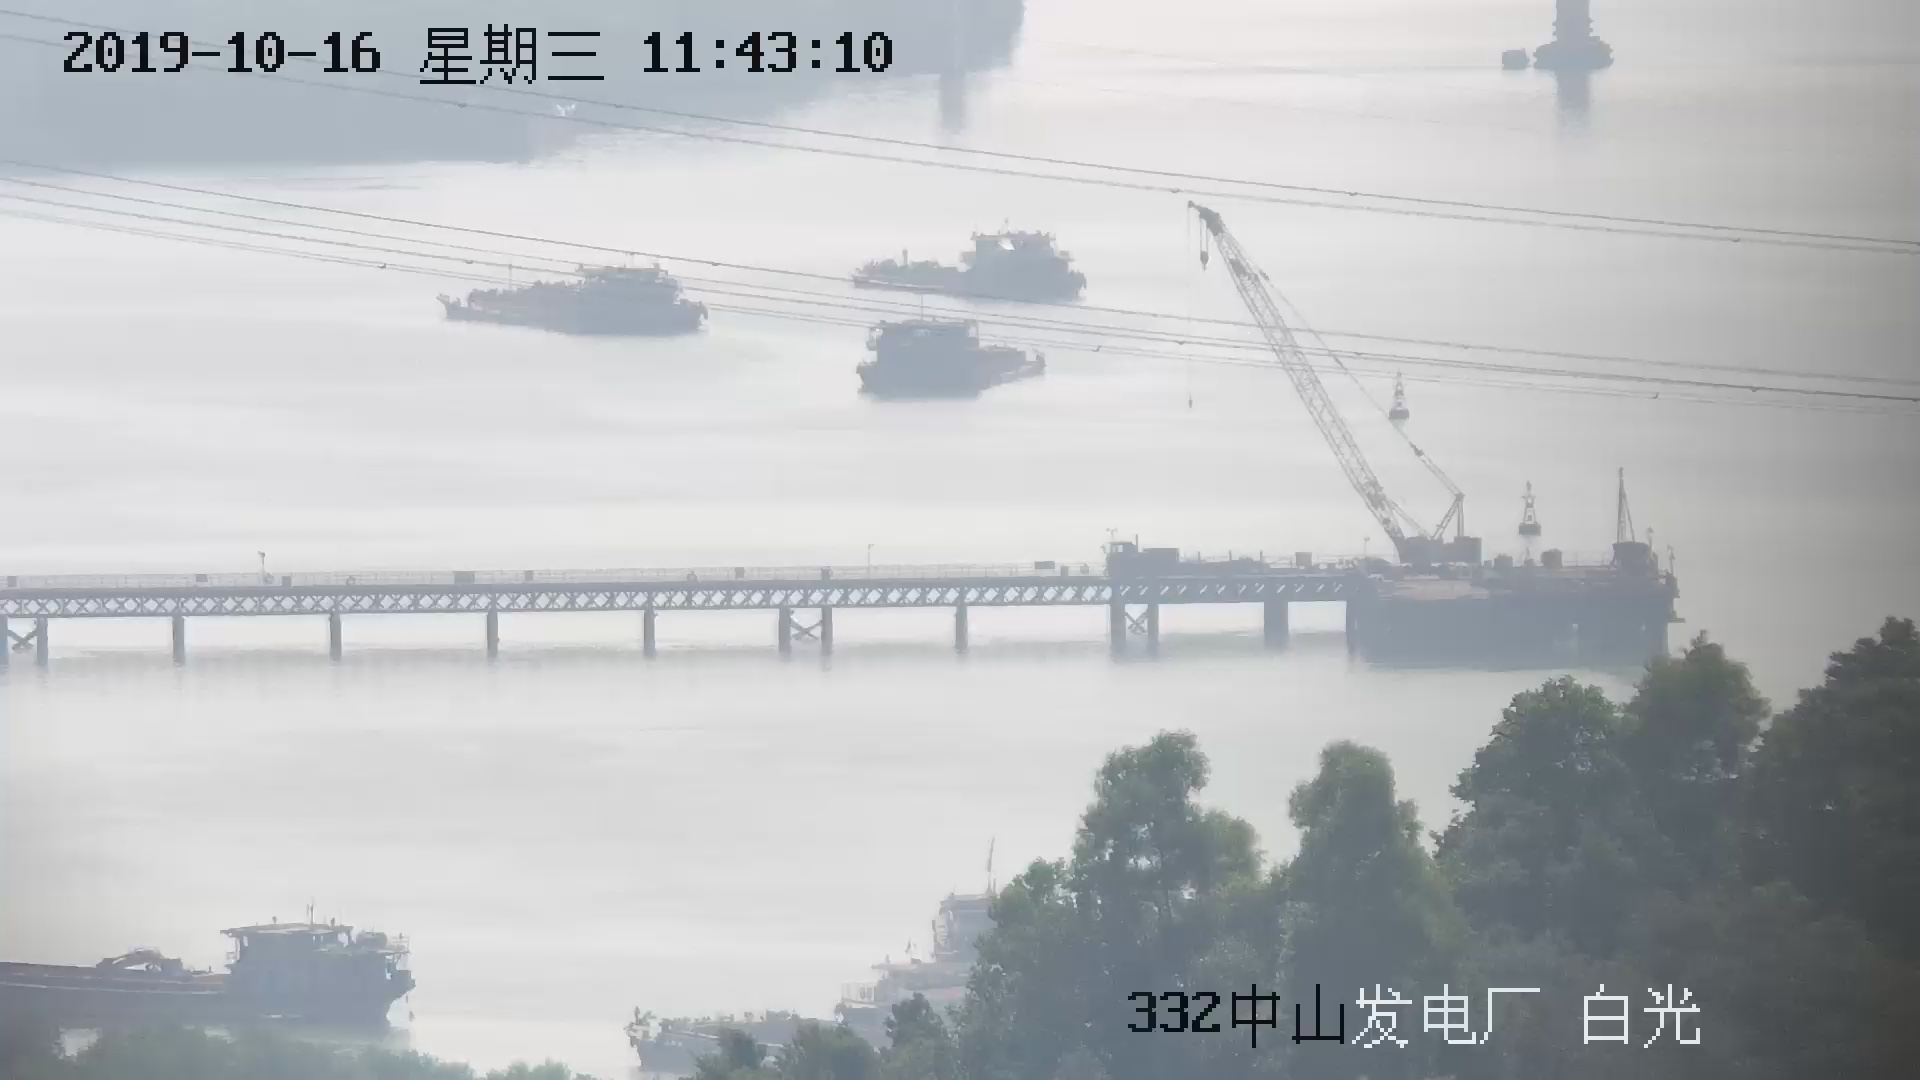ship: (1, 906, 417, 1029), (430, 265, 707, 340), (848, 224, 1083, 310), (855, 318, 1050, 396)
